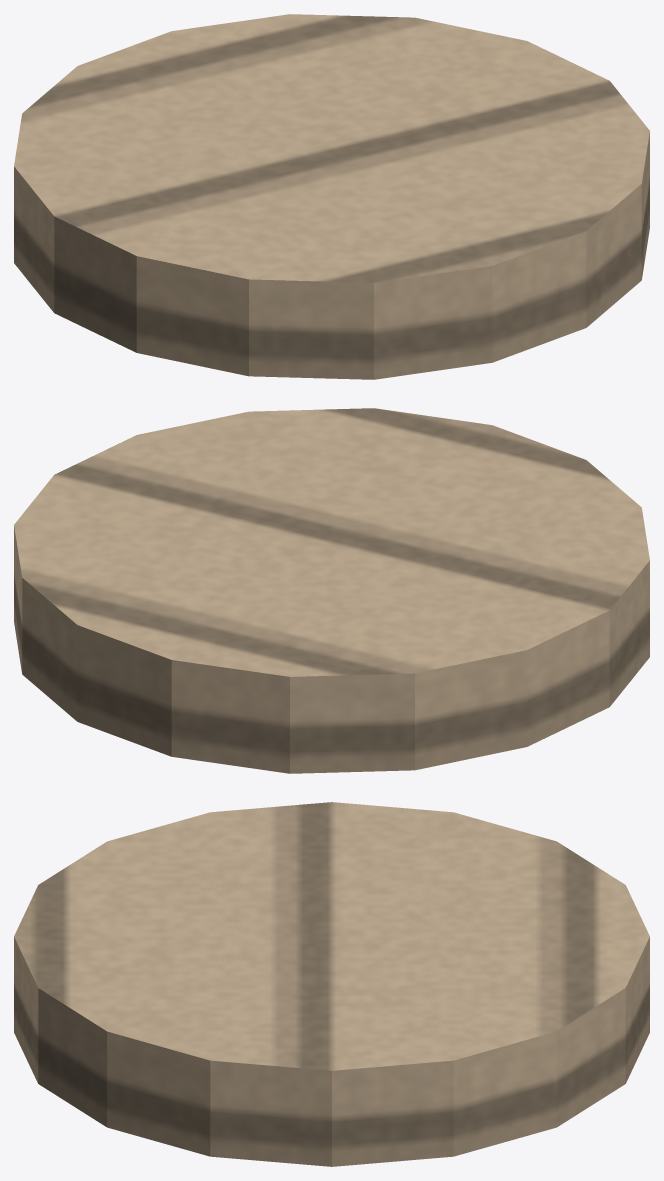
Rendered from wall_clock_thermometer.glb.
The picture shows the model from 3 angles, top to bottom: view 1: azimuth 30°, elevation 25°; view 2: azimuth 150°, elevation 25°; view 3: azimuth 270°, elevation 25°; orthographic projection.
Visible parts, largest first — view 1: wall_clock_thermometer-col; view 2: wall_clock_thermometer-col; view 3: wall_clock_thermometer-col.
Part boxes in pixels (left/top/right/bottom): wall_clock_thermometer-col: left=14, top=14, right=649, bottom=379; wall_clock_thermometer-col: left=14, top=408, right=649, bottom=773; wall_clock_thermometer-col: left=14, top=802, right=649, bottom=1166.
Size of the model in its own units: 0.3 by 0.05 by 0.3.
Materials: 1 (1 with a texture image).
